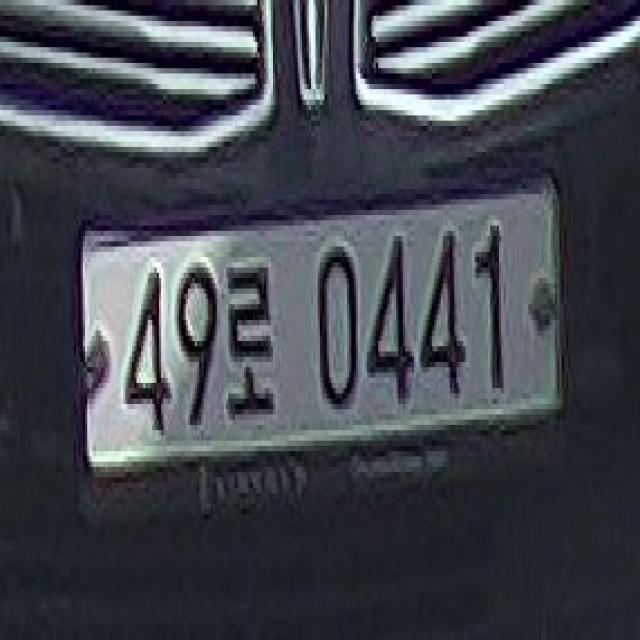0: (317, 242, 360, 420)
1: (472, 206, 507, 402)
4: (366, 229, 418, 422), (124, 248, 172, 444), (419, 220, 467, 414)
9: (176, 251, 222, 440)
license_plate: (66, 148, 572, 508)
lo: (226, 252, 278, 431)
